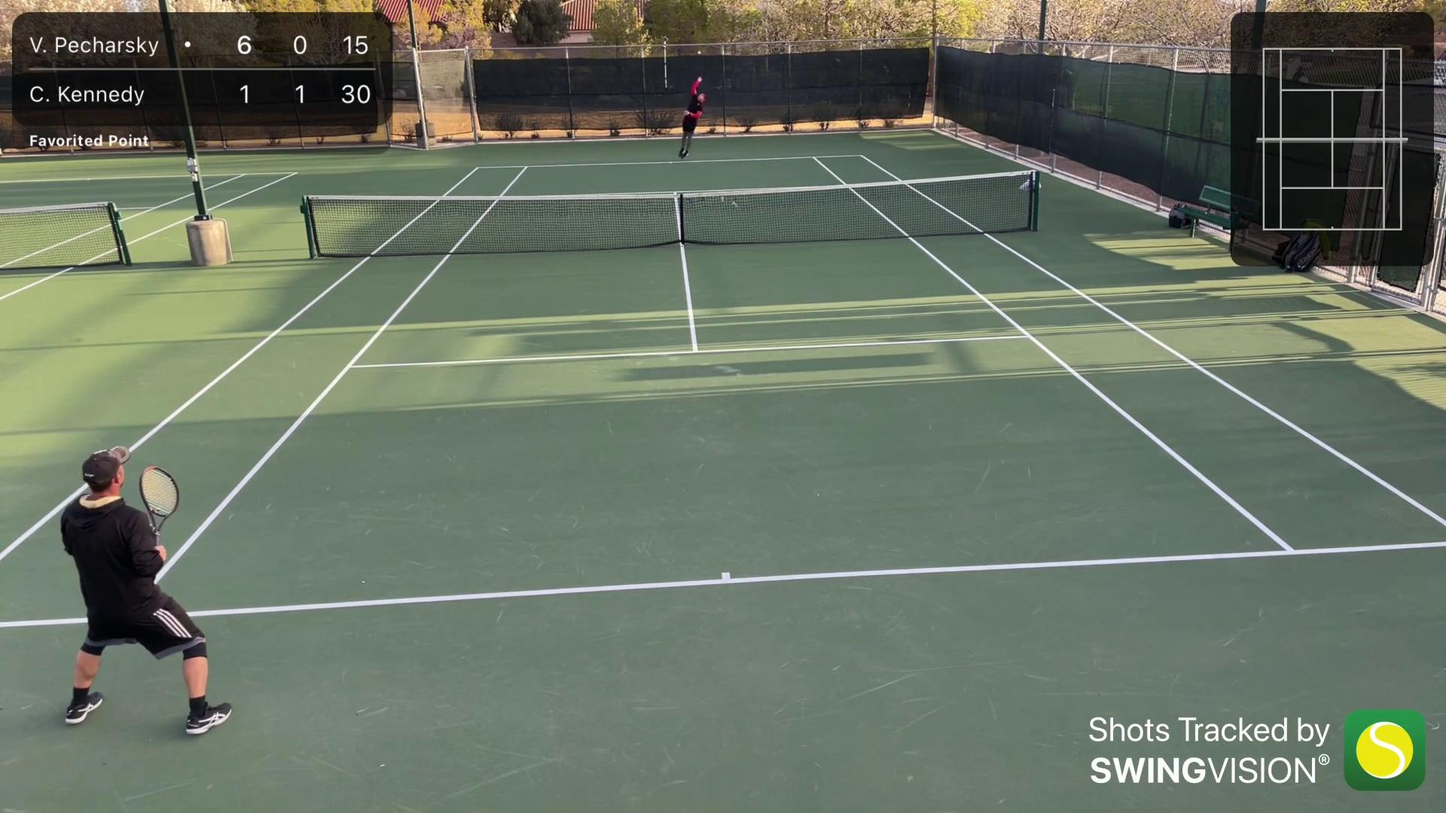ball: (697, 48, 702, 56)
